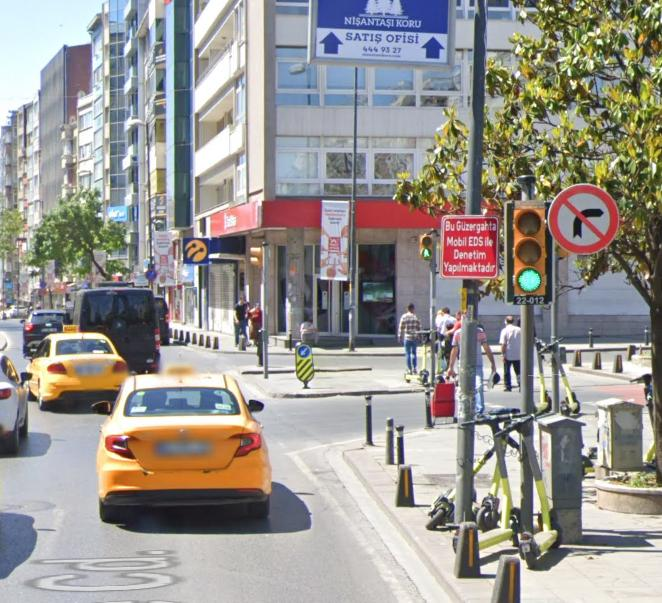greenlight: (509, 204, 548, 293)
rightturnsareforbidden: (556, 186, 617, 251)
